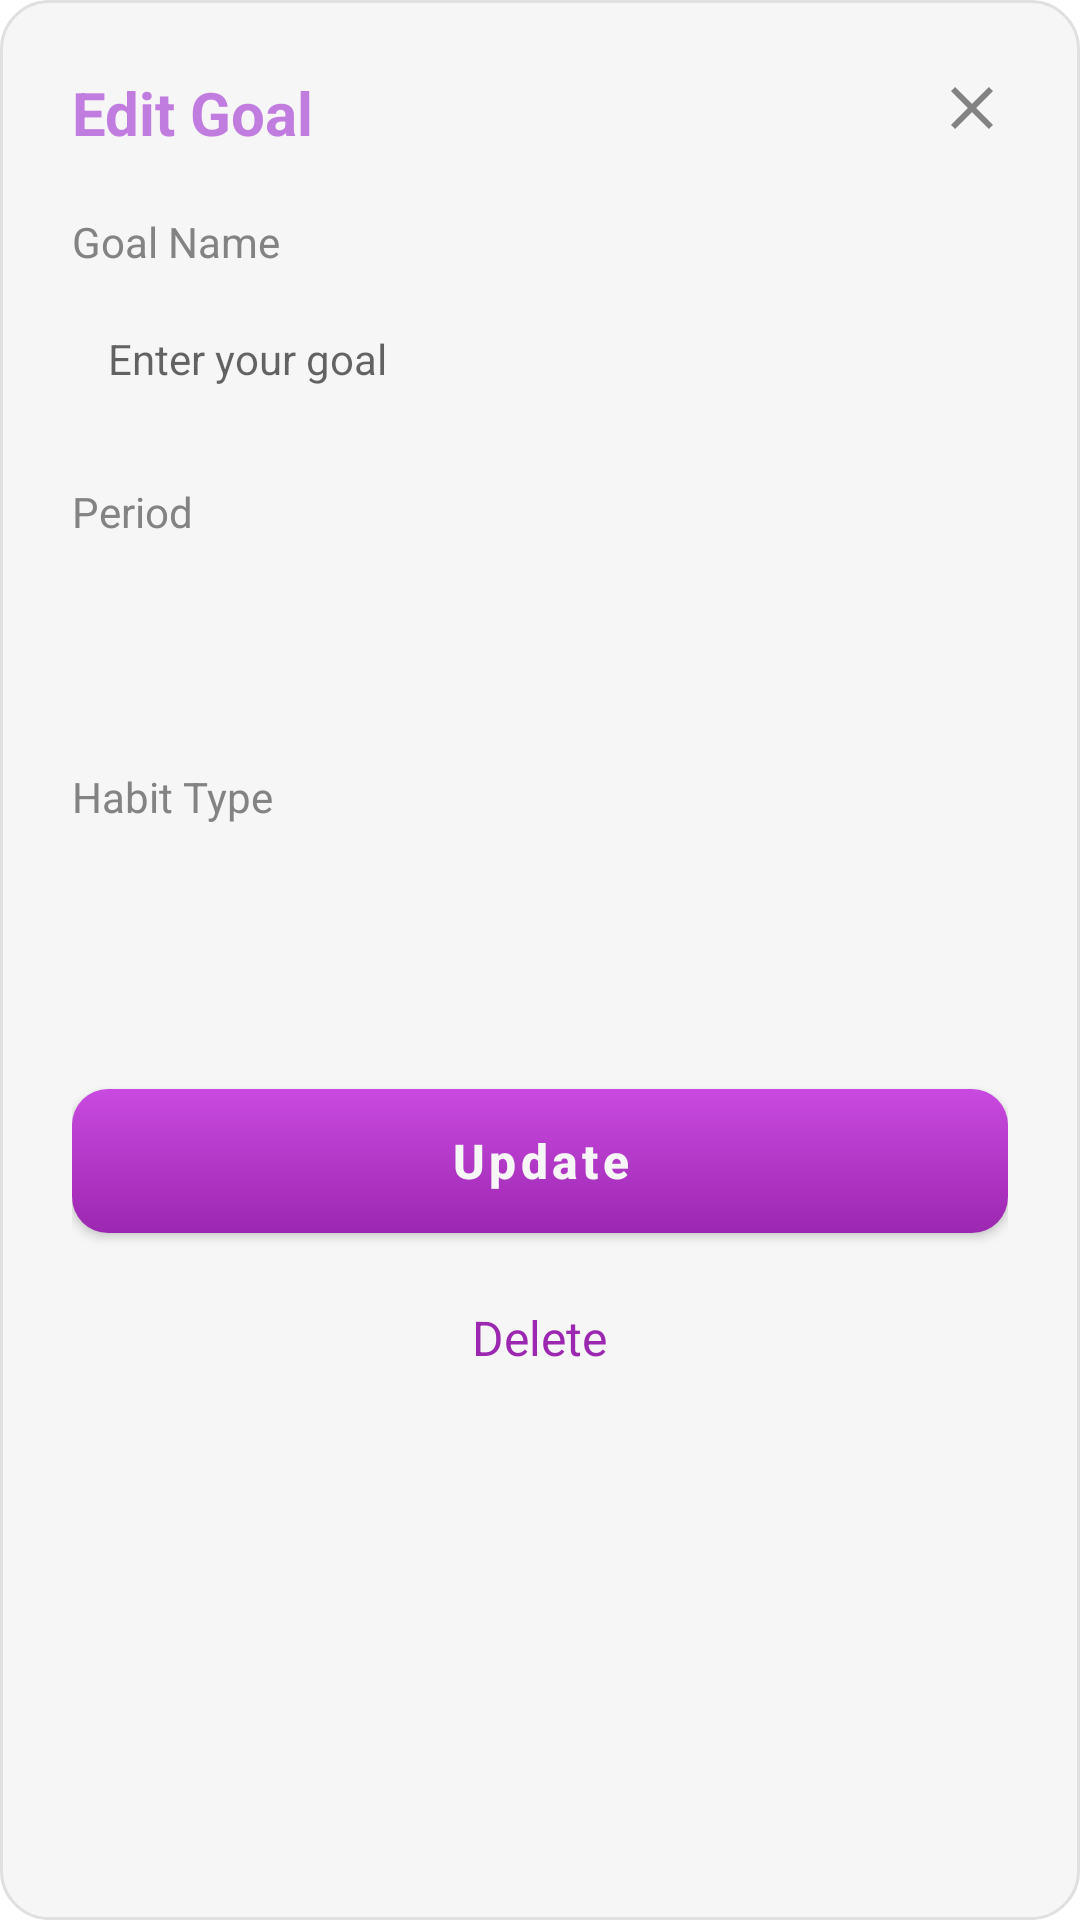

Point at icon controls on the screen. Image size 1080px×1920px, points as point (x, y).
close: point (972, 108)
